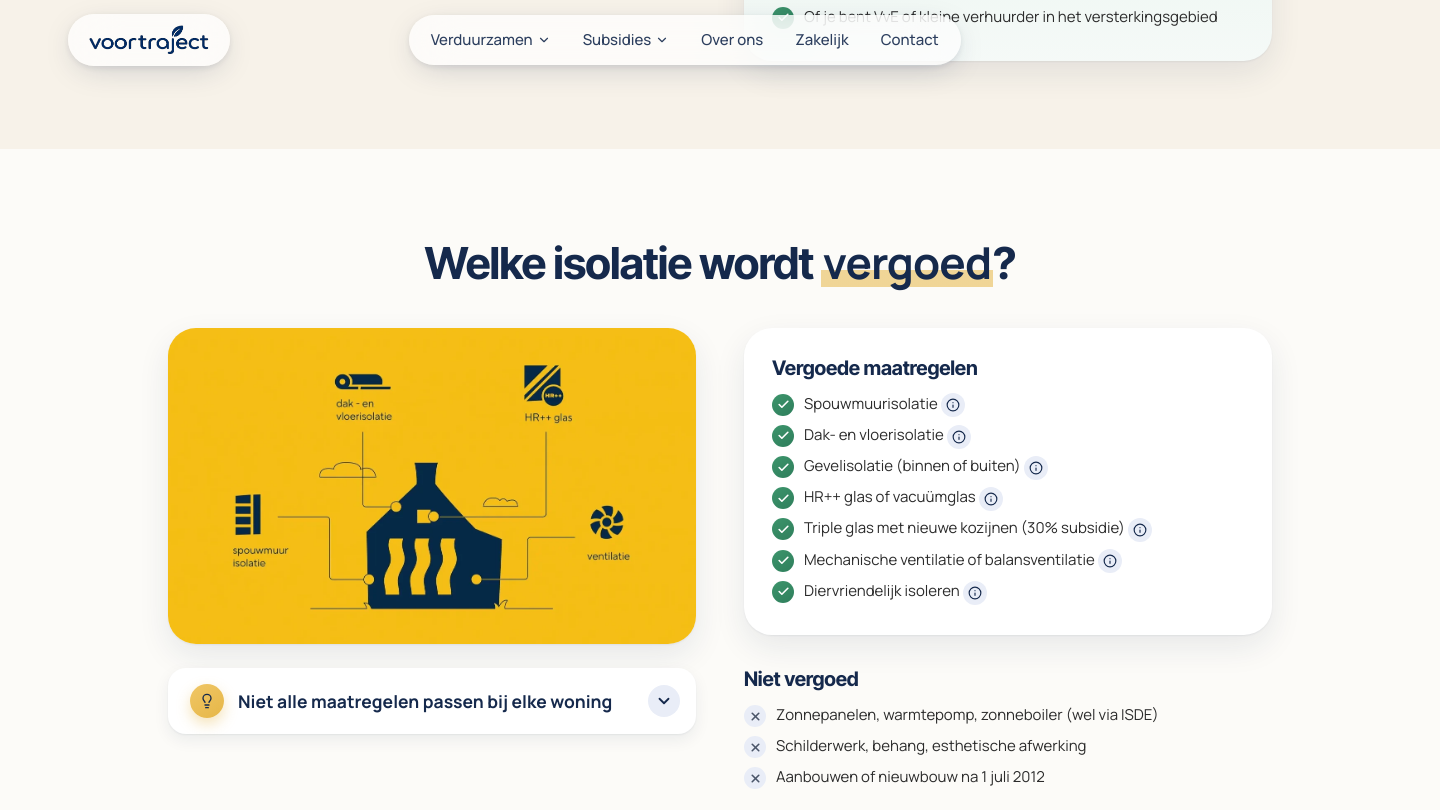
Test case: Nij Begun: de uitleg bij een maatregel › klapt open en sluit met Escape
The width and height of the screenshot is (1440, 810).
(page scrolled)
Click the button named "Meer informatie over Spouwmuurisolatie" at [953, 405], box [941,393,965,417]
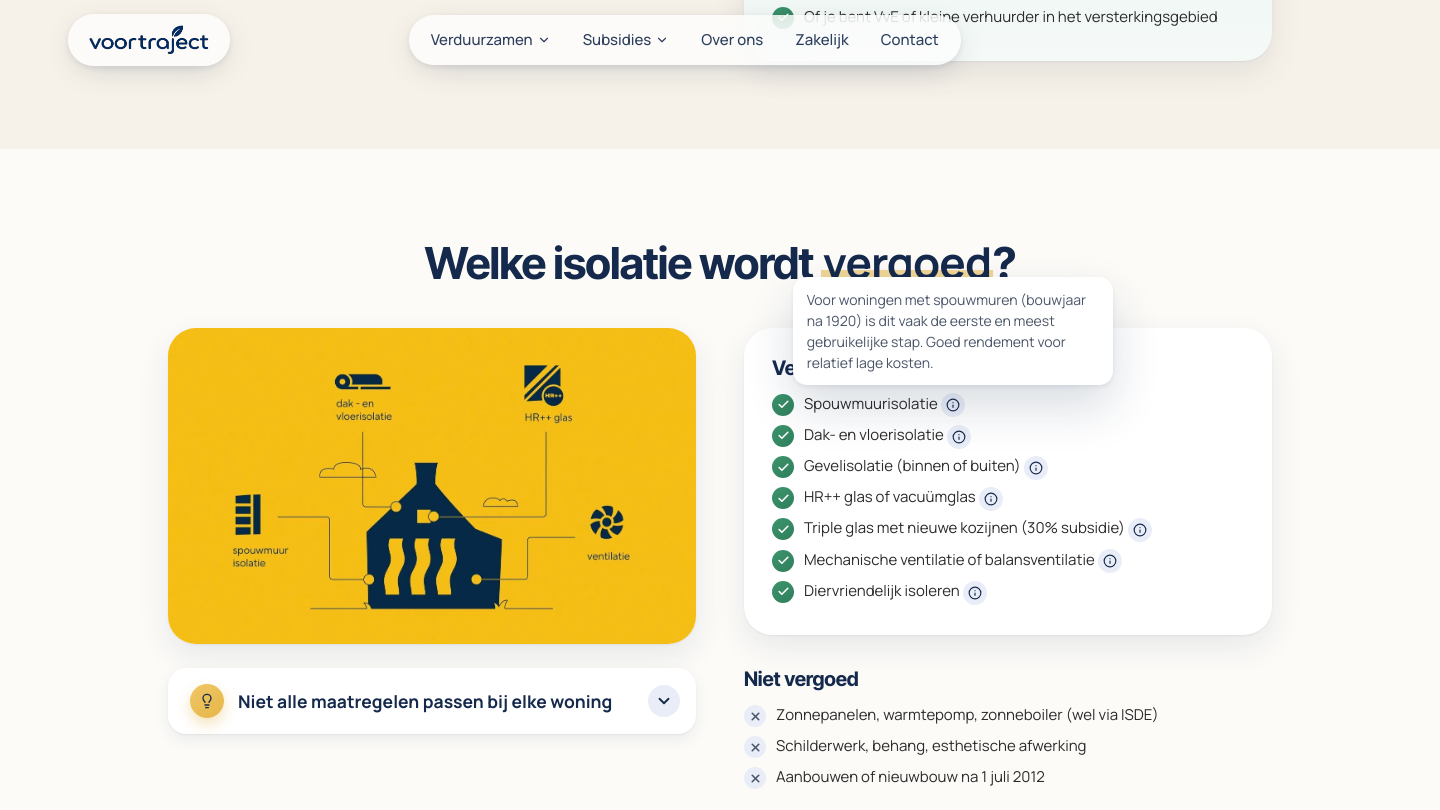
expect the tooltip shows "spouwmuren": met, box [807,290,1086,372]
Press Escape
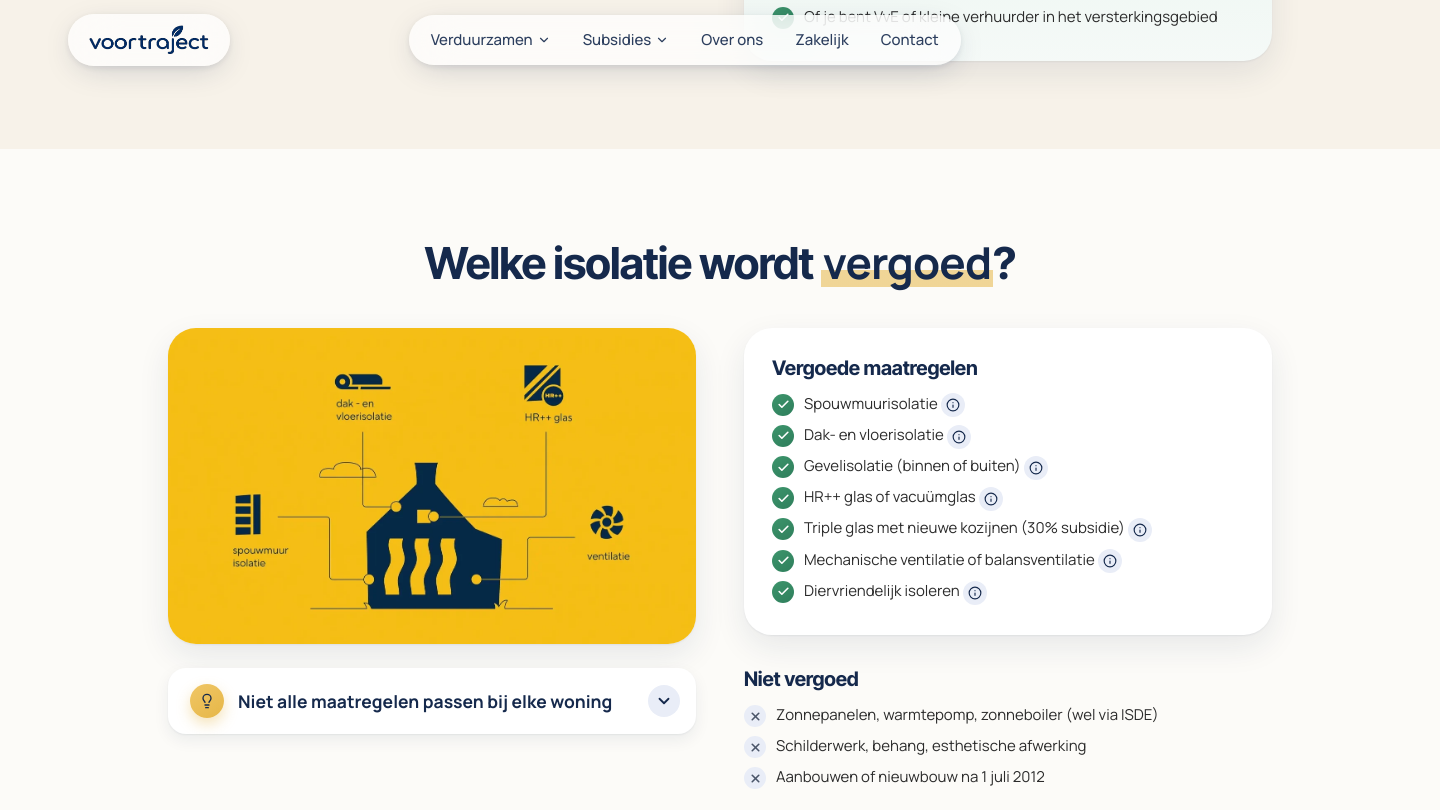
expect the tooltip is gone: met
